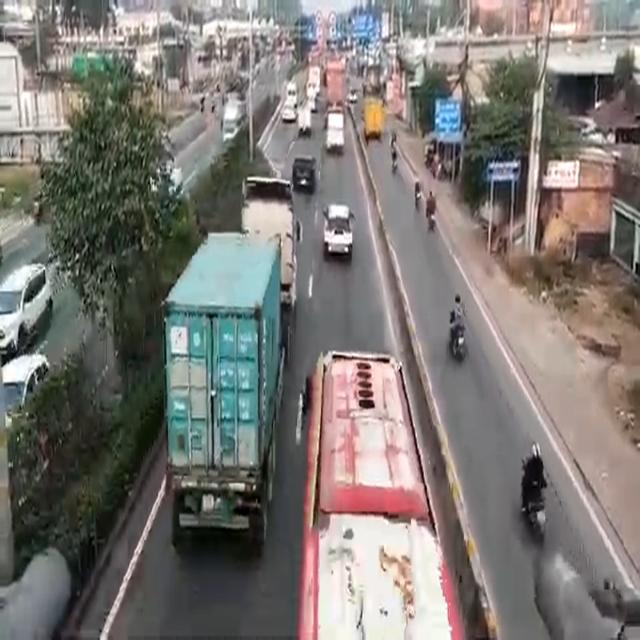bus: (300, 354, 454, 640)
car: (0, 263, 47, 351), (322, 200, 353, 261), (291, 151, 315, 194)
motor: (518, 457, 549, 538), (446, 303, 470, 354), (420, 194, 441, 232)
truck: (165, 176, 305, 551), (323, 97, 349, 157)
